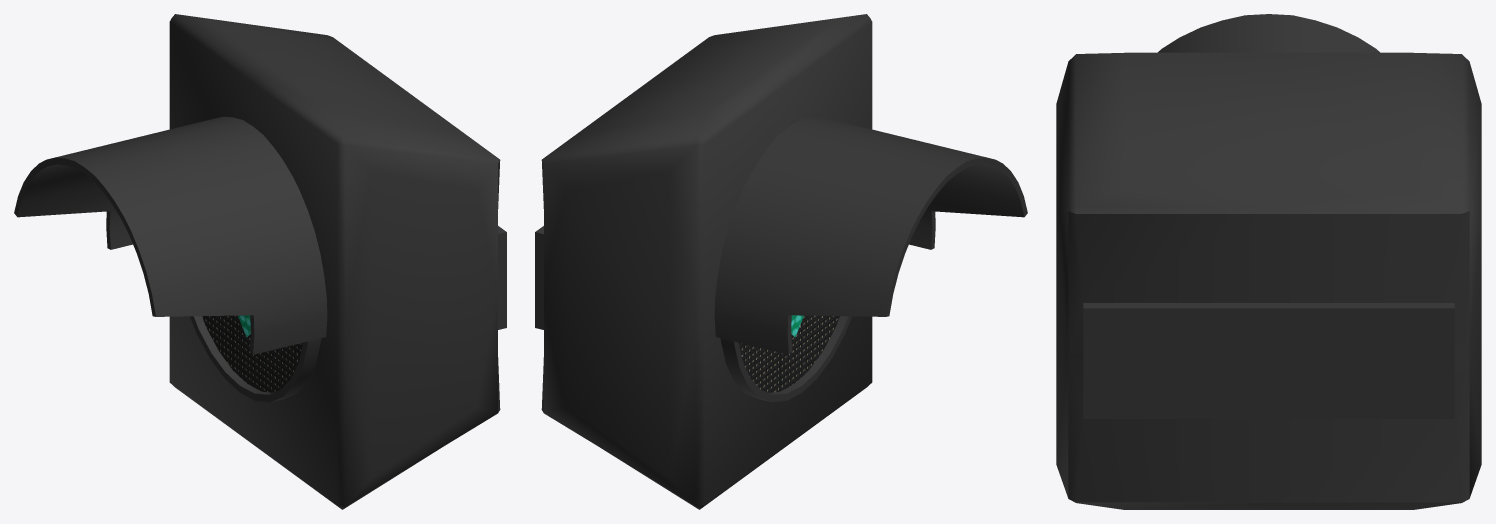
Rendered from 车道信号灯_GreenLight.fbx.
The picture shows the model from 3 angles, left to right: view 1: azimuth 30°, elevation 25°; view 2: azimuth 150°, elevation 25°; view 3: azimuth 270°, elevation 25°; orthographic projection. The views are drawn at different scales.
Parts seen in each view (by area): view 1: 车道信号灯_GreenLight; view 2: 车道信号灯_GreenLight; view 3: 车道信号灯_GreenLight.
Part boxes in pixels (x1,y1,x2,y2): 车道信号灯_GreenLight: (14,14,506,509); 车道信号灯_GreenLight: (535,14,1027,509); 车道信号灯_GreenLight: (1056,14,1481,509).
Bounding box in the file's own units: 0.6 × 0.65 × 0.5618.
3 materials, 2 textured.
